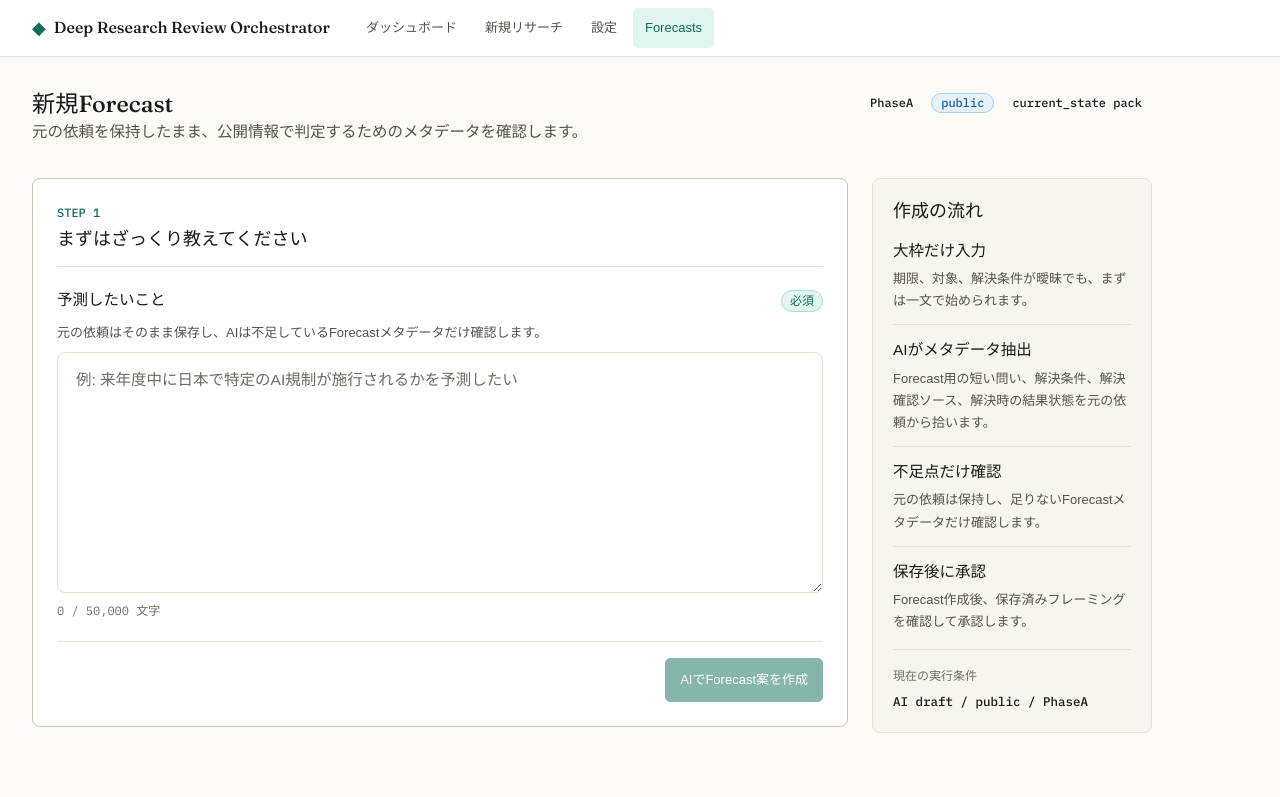
Forecast UI › opens Step 3 before clarifying questions when the API says the draft is ready
Step 1. Type "Will the product launch?" into the text box labelled "予測したいこと" → (440, 472), box [57,352,823,593]
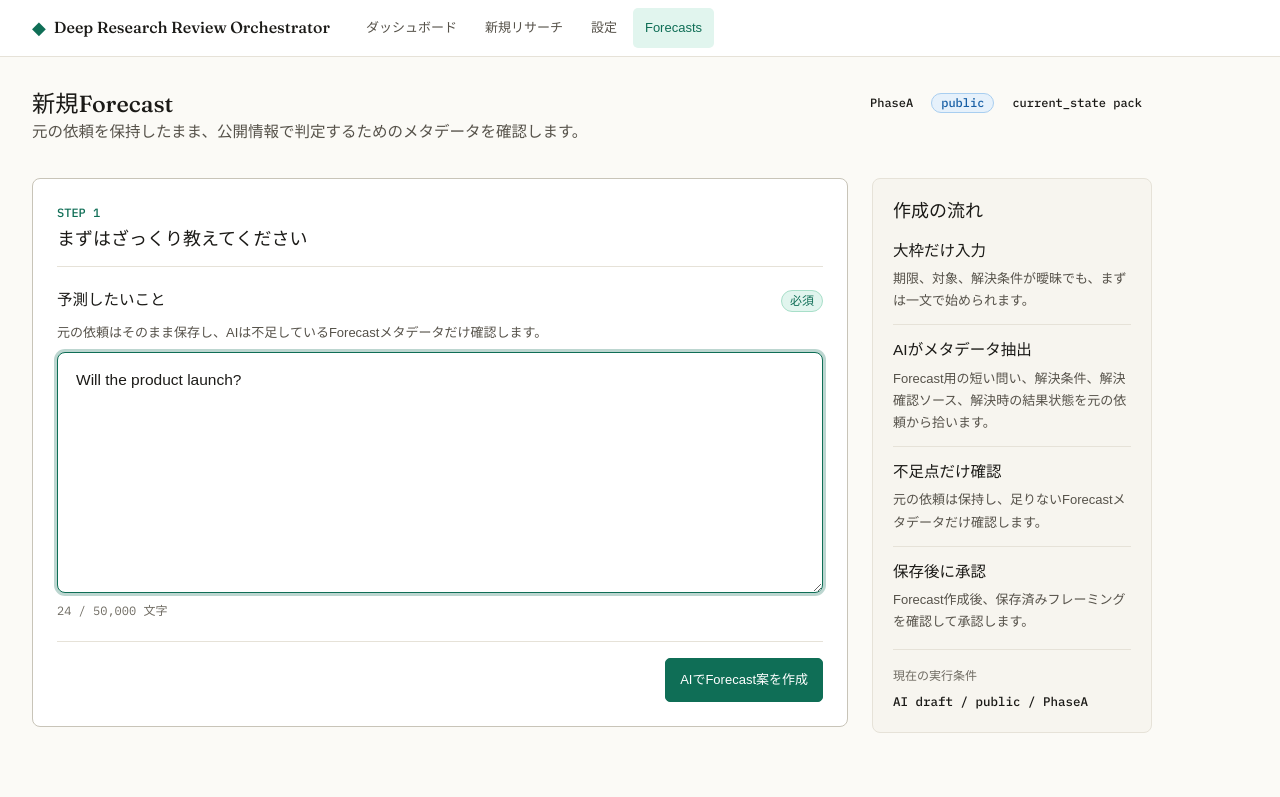
Step 2. Click the button "AIでForecast案を作成" → (744, 680), box [665,658,823,702]
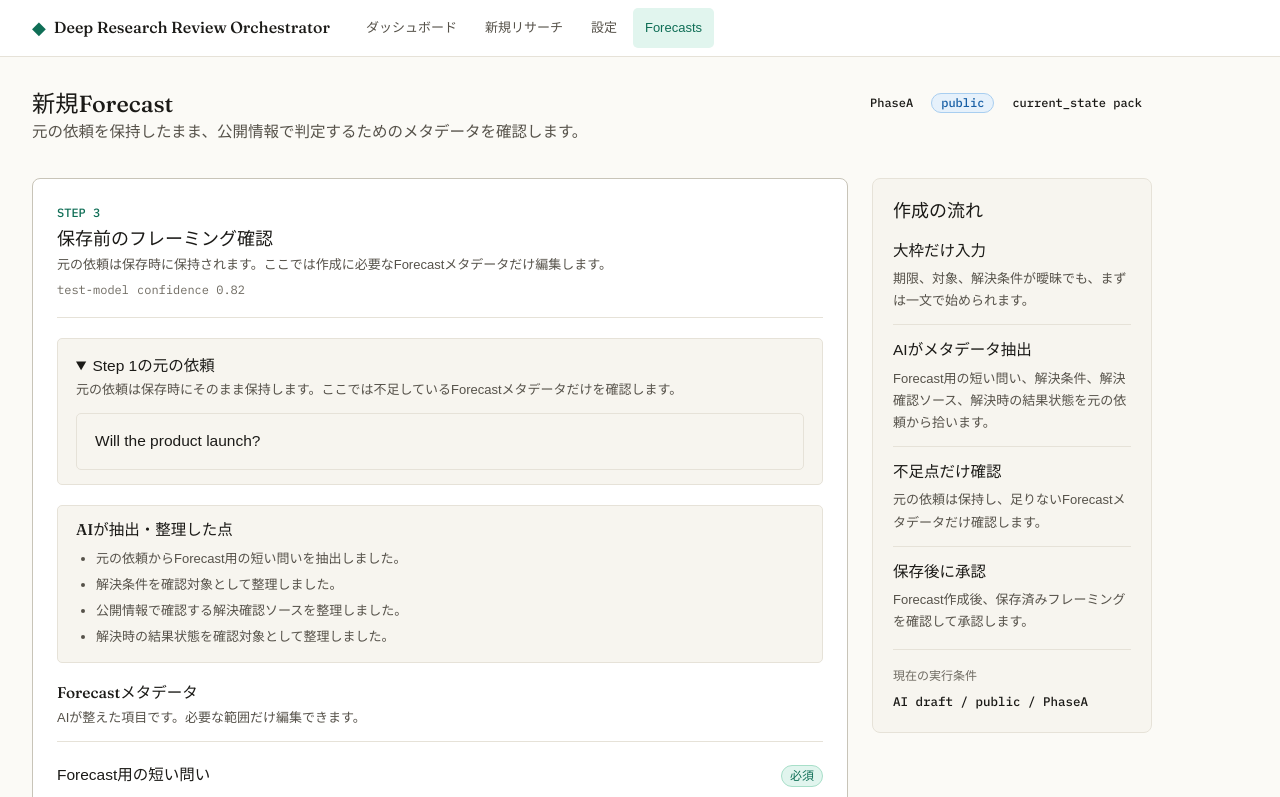
Check: the heading "保存前のフレーミング確認" is shown, box [57,227,273,250]
